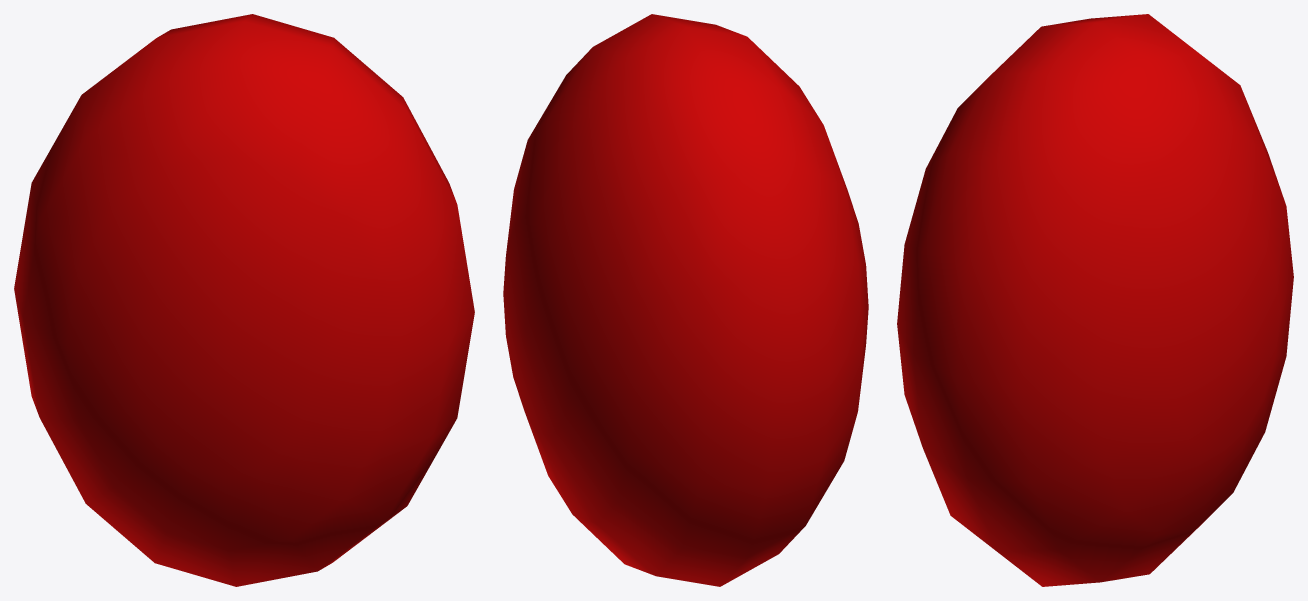
File: region_0.obj
3 views of the same model, side by side, from view 1: azimuth 30°, elevation 25°; view 2: azimuth 150°, elevation 25°; view 3: azimuth 270°, elevation 25° (orthographic). The views are drawn at different scales.
Visible parts, largest first — view 1: ID5; view 2: ID5; view 3: ID5.
Part boxes in pixels (x1,y1,x2,y2): ID5: (14,14,474,586); ID5: (503,14,868,586); ID5: (897,14,1293,586).
Size of the model in its own units: 15.07 by 21.84 by 14.14.
